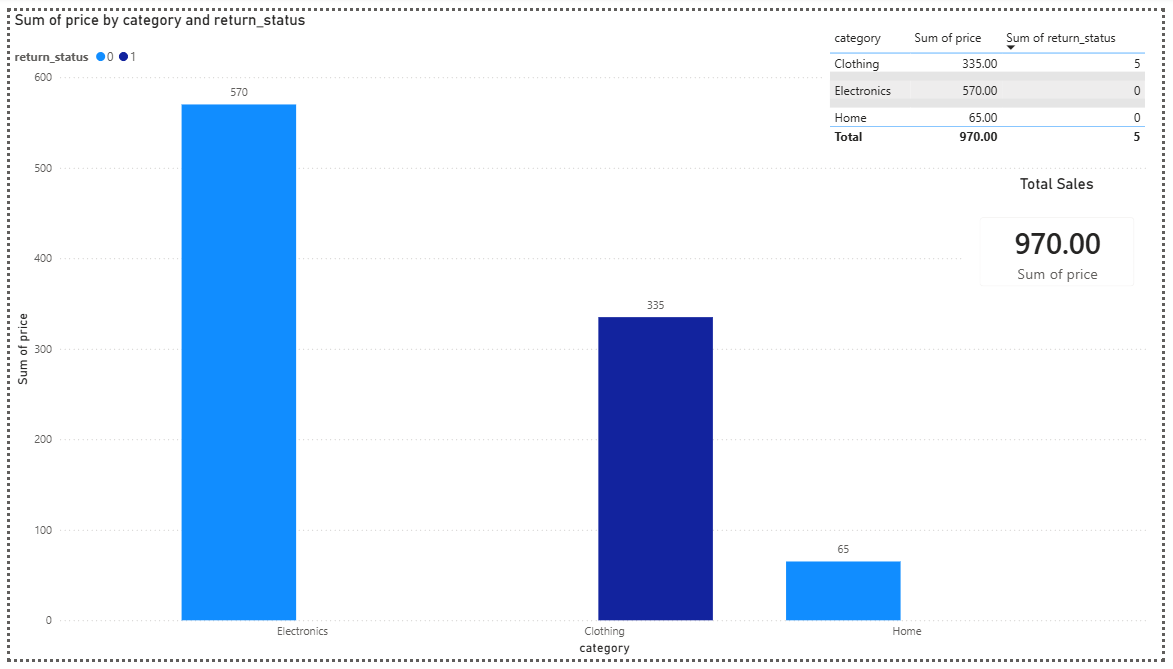

This screenshot's page, from the dashboard's own definition file:
{"tool":"powerbi","page":{"name":"Page 1","canvas":[1280,720],"ordinal":0},"visuals":[{"type":"clusteredColumnChart","fields":{"Category":["e_commerce_orders.category"],"Y":["Sum(e_commerce_orders.price)"],"Series":["e_commerce_orders.return_status"]},"box":[0,0,1269.9,720],"z":0},{"type":"tableEx","fields":{"Values":["e_commerce_orders.category","Sum(e_commerce_orders.price)","Sum(e_commerce_orders.return_status)"]},"box":[904.6,13.8,361.5,149.2],"z":1000},{"type":"cardVisual","title":"Total Sales","fields":{"Data":["Sum(e_commerce_orders.price)"]},"box":[1060,181.7,206,142],"z":2000}]}

Visuals, with their boxes in screenshot pixels (x1, y1, x2, y2), scaled from the page's 1280x720 canvas onto the 1173x669 screenshot:
clusteredColumnChart - e_commerce_orders.category x Sum(e_commerce_orders.price): detection(0, 0, 1164, 668)
tableEx - e_commerce_orders.category x Sum(e_commerce_orders.price): detection(829, 13, 1160, 151)
"Total Sales" cardVisual: detection(971, 169, 1160, 301)
